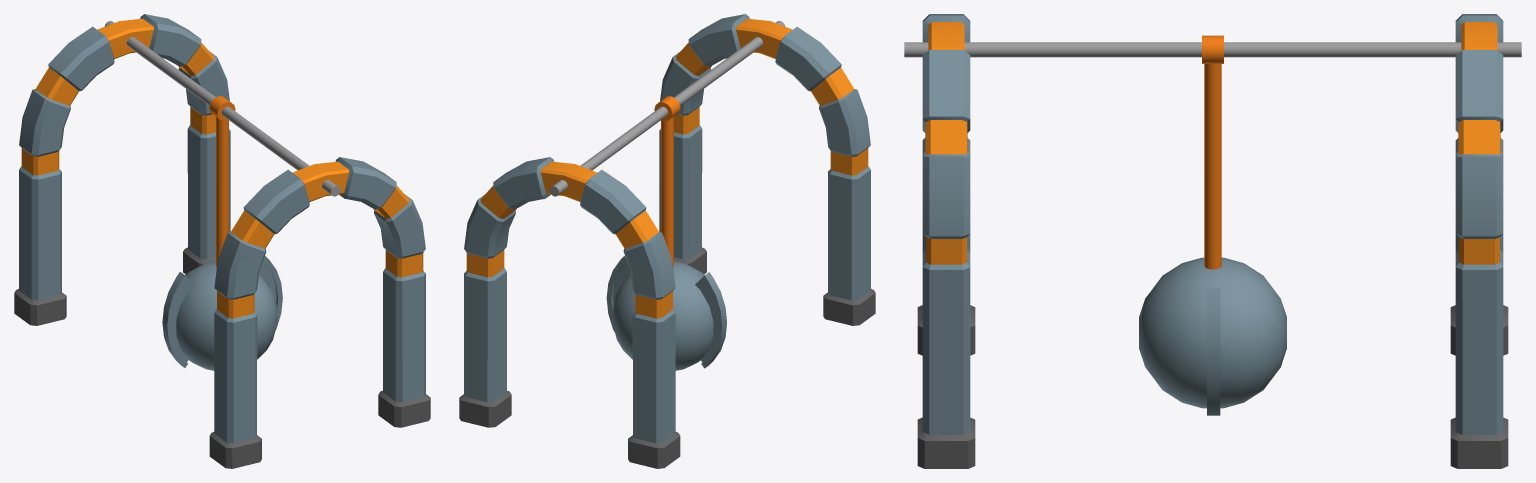
The model's file is DangerZone.fbx.
3 renders of one model, left to right at view 1: azimuth 30°, elevation 25°; view 2: azimuth 150°, elevation 25°; view 3: azimuth 270°, elevation 25°, orthographic. The views are drawn at different scales.
Parts seen in each view (by area): view 1: Arch.002, Arch.001, WreckingBall, Cylinder, Axe; view 2: Arch.001, Arch.002, WreckingBall, Cylinder, Axe; view 3: Arch.001, Arch.002, WreckingBall, Cylinder, Axe.
Boxes of the visible parts, x1=… form: Arch.002: x1=209, y1=157, x2=430, y2=468; Arch.001: x1=14, y1=14, x2=230, y2=325; WreckingBall: x1=176, y1=96, x2=277, y2=370; Cylinder: x1=105, y1=21, x2=340, y2=196; Axe: x1=162, y1=256, x2=282, y2=367; Arch.001: x1=459, y1=157, x2=680, y2=468; Arch.002: x1=659, y1=14, x2=875, y2=325; WreckingBall: x1=612, y1=96, x2=713, y2=370; Cylinder: x1=549, y1=21, x2=784, y2=196; Axe: x1=606, y1=255, x2=726, y2=368; Arch.001: x1=1450, y1=14, x2=1508, y2=468; Arch.002: x1=917, y1=14, x2=975, y2=468; WreckingBall: x1=1139, y1=35, x2=1286, y2=408; Cylinder: x1=904, y1=42, x2=1521, y2=57; Axe: x1=1207, y1=288, x2=1220, y2=415.
Bounding box in the file's own units: 3.64 × 6.95 × 4.57.
